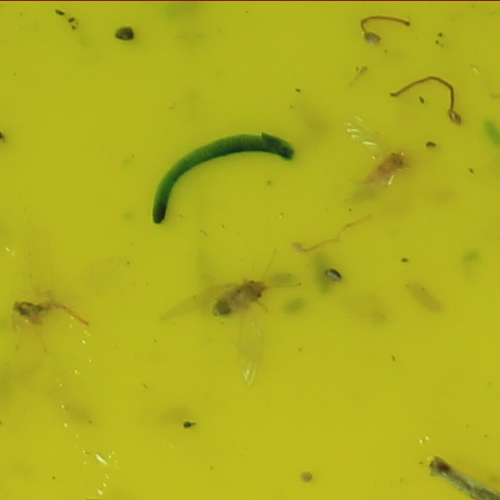Glycaspis: (211, 278, 272, 323), (366, 152, 411, 184)
